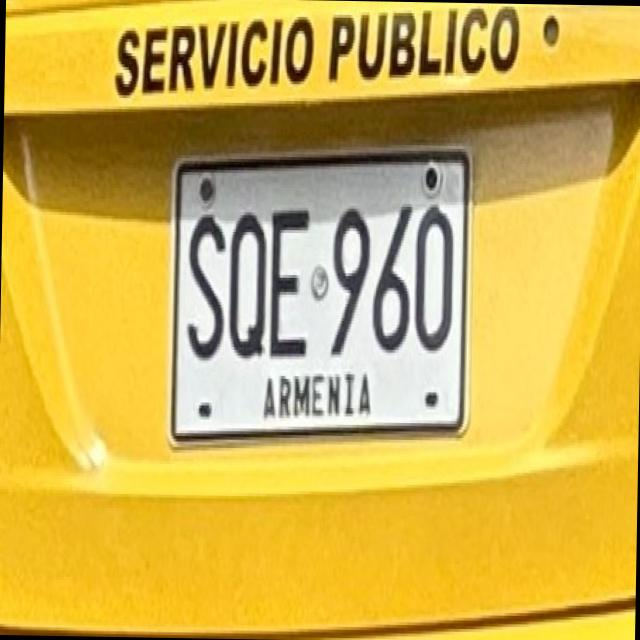number plate: (170, 147, 467, 435)
